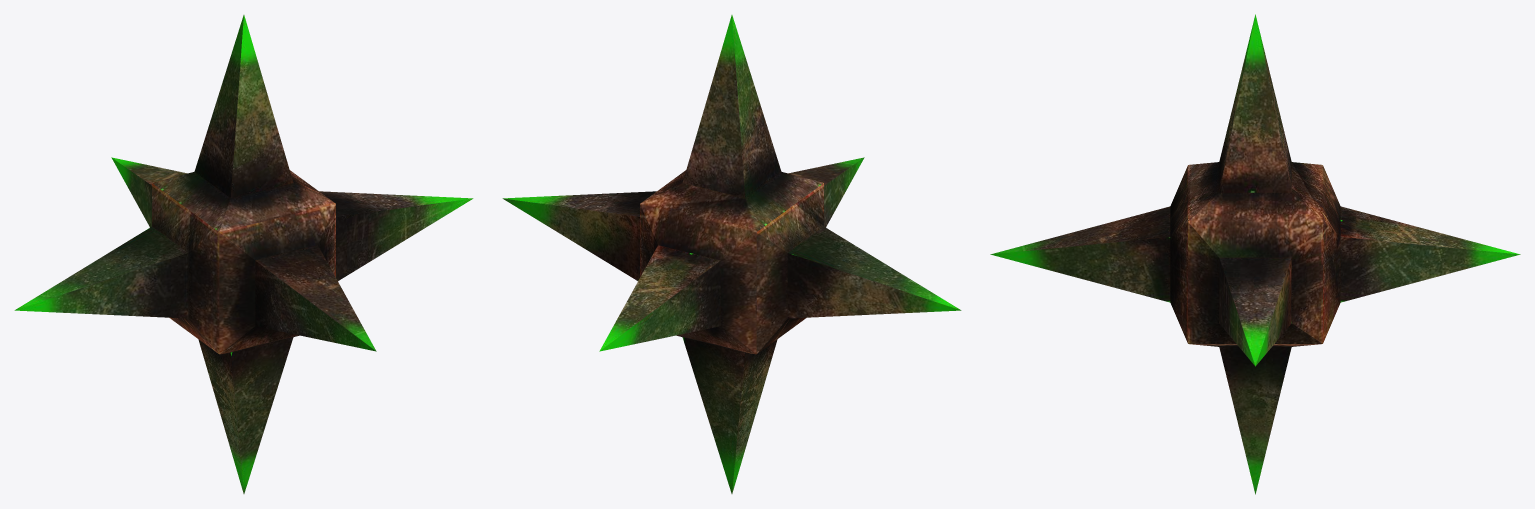
File: pincheOxidado.fbx
3 views of the same model, side by side, from view 1: azimuth 30°, elevation 25°; view 2: azimuth 150°, elevation 25°; view 3: azimuth 270°, elevation 25° (orthographic).
Visible parts, largest first — view 1: pinche; view 2: pinche; view 3: pinche.
Part boxes in pixels (<box>): pinche: <box>14,15,473,493</box>; pinche: <box>502,15,961,493</box>; pinche: <box>990,14,1520,494</box>.
Size of the model in its own units: 787 by 787 by 787.
1 material, 1 textured.
